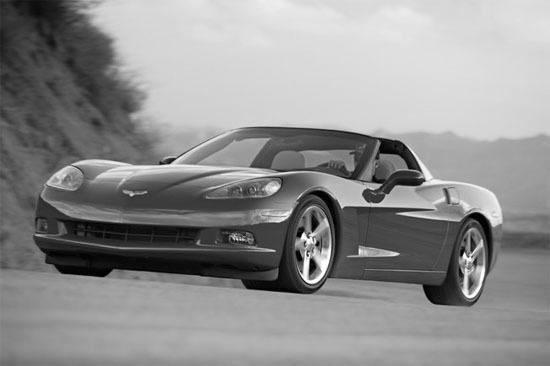car: (30, 119, 508, 313)
